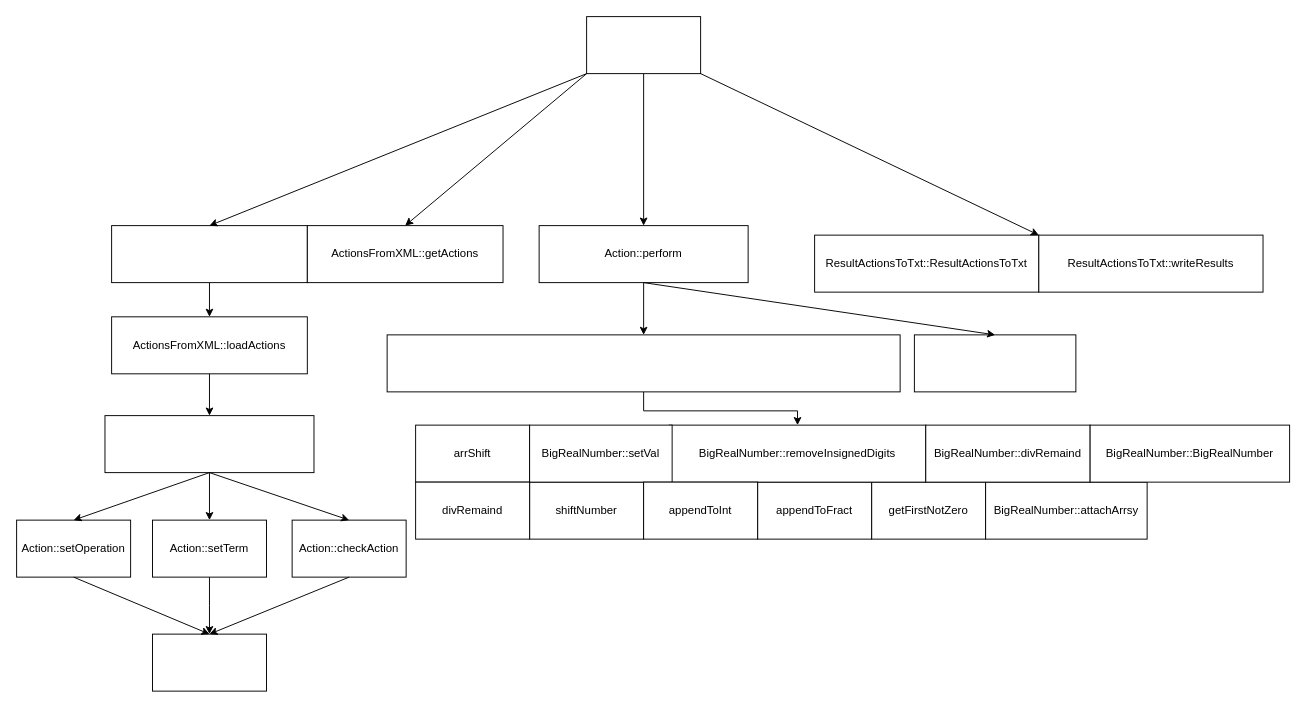
This 1306x708 diagram has some shape labels left out. Each missing label, with the centre of its shape:
"Aciton::setErrorResutl" goes at pixel 209 662.
"Action::Actions" goes at pixel 209 444.
"ActionsFromXML::ActionsFromXML" goes at pixel 209 254.
"BigRealNumber::(operation+ ... operation>=)" goes at pixel 643 363.
"BigRealNumber::toString" goes at pixel 994 363.
"main" goes at pixel 643 45.
